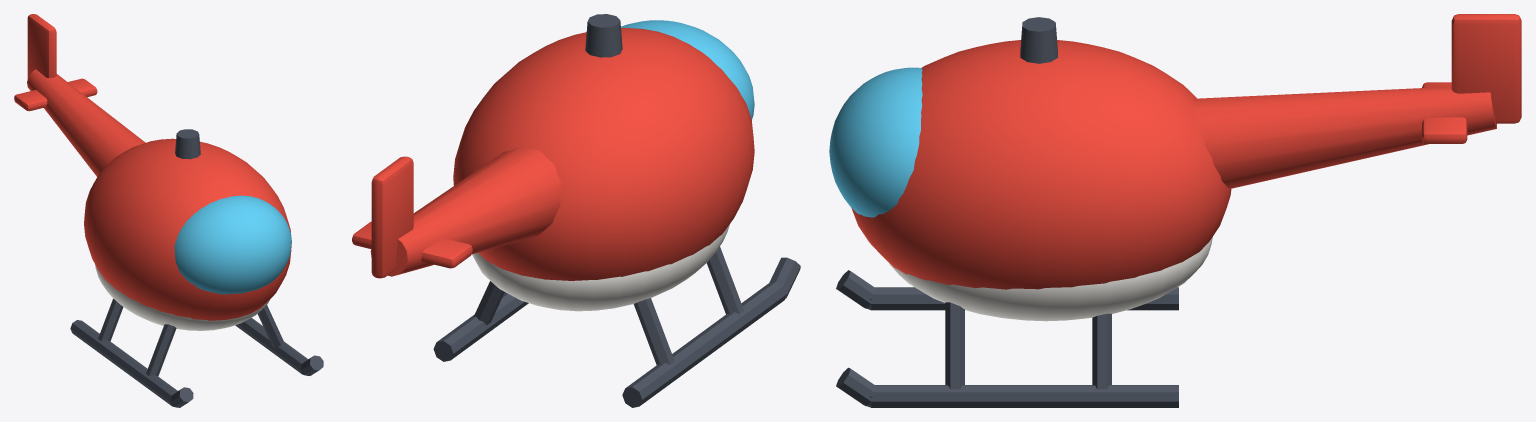
File: heli_body.fbx
3 views of the same model, side by side, from view 1: azimuth 30°, elevation 25°; view 2: azimuth 150°, elevation 25°; view 3: azimuth 270°, elevation 25° (orthographic). The views are drawn at different scales.
Visible parts, largest first — view 1: heli_body; view 2: heli_body; view 3: heli_body.
Boxes of the visible parts, <box> form: heli_body: <box>14,14,323,407</box>; heli_body: <box>352,14,800,407</box>; heli_body: <box>829,14,1521,407</box>.
Bounding box in the file's own units: 0.84 × 1.09 × 1.98.
